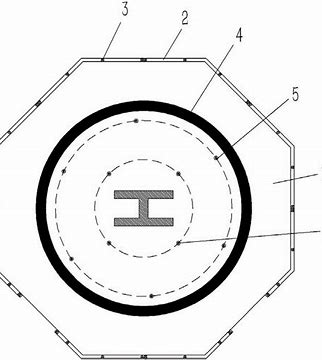H: (113, 190, 174, 227)
